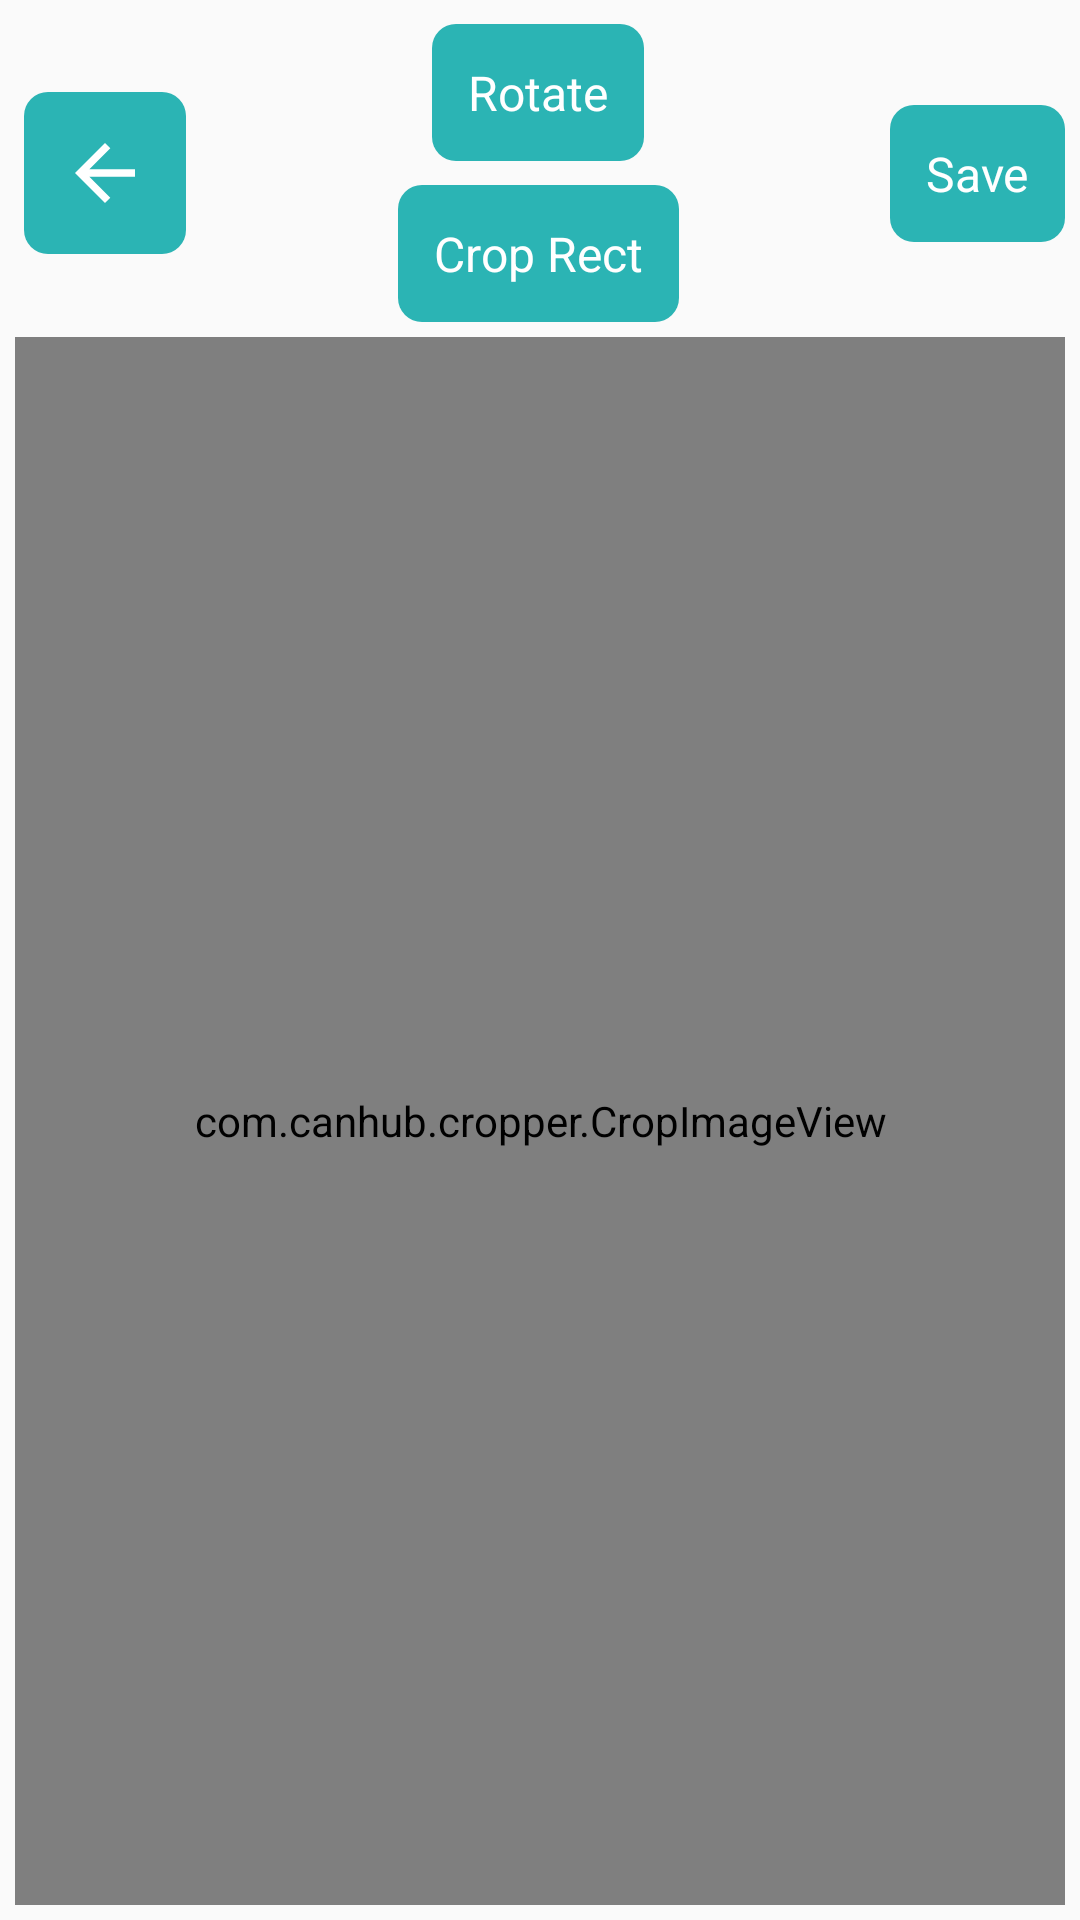

Point at icon controls on the screen. Image size 1080*1920, points as point (x, y).
back: point (105, 173)
